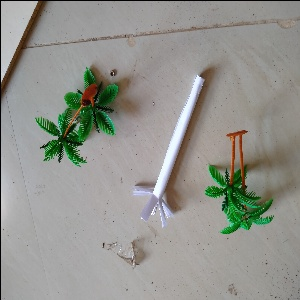plant: (35, 70, 111, 158), (216, 132, 264, 235)
weed: (138, 75, 203, 223)
